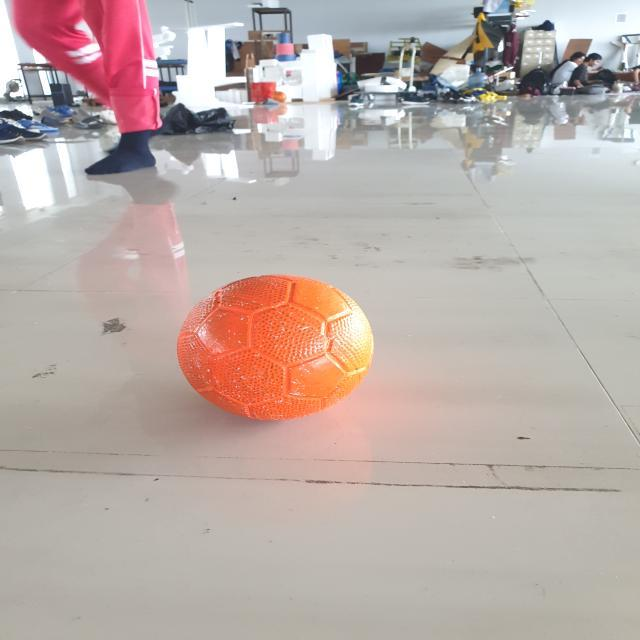bola: (144, 246, 395, 440)
